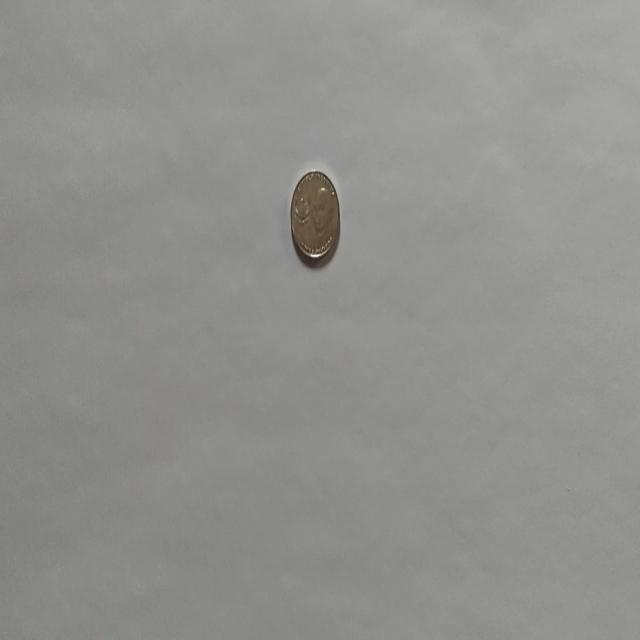lima ratus rupiah: (289, 168, 341, 262)
